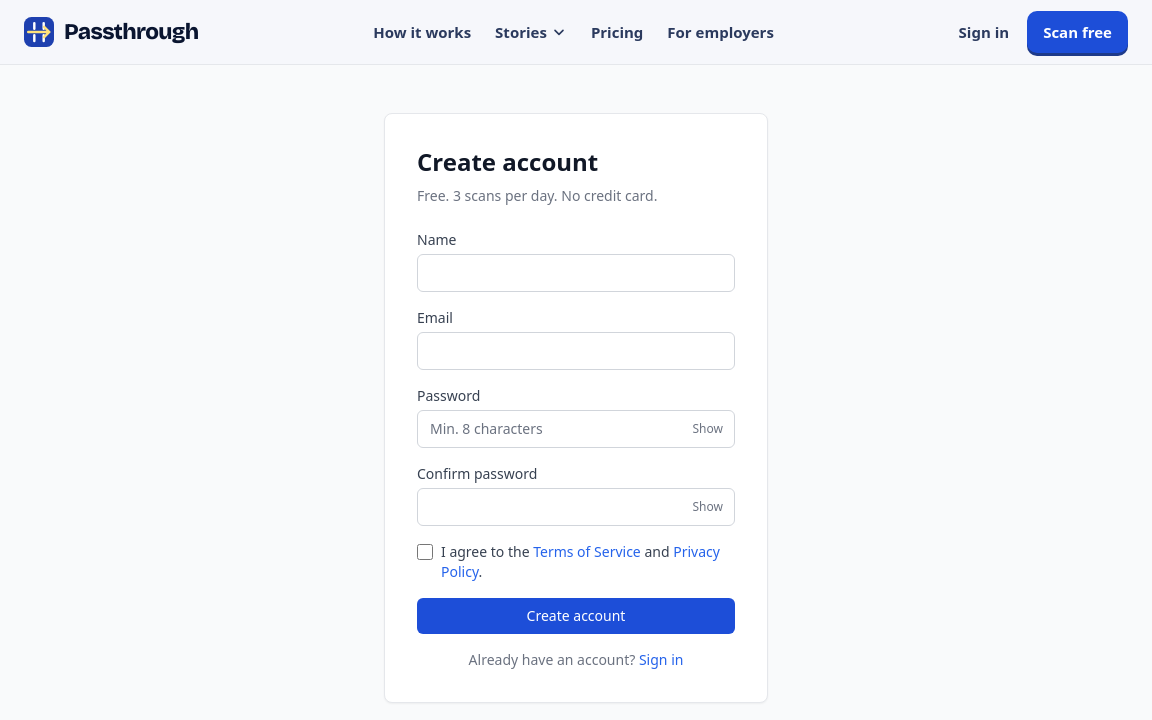
Test: Register — Turnstile (G1) and password toggles (G2) › will not submit before the challenge is solved
Type "Ada" into the field labelled "Name" at (576, 273), box x1=417 y1=254 x2=735 y2=292
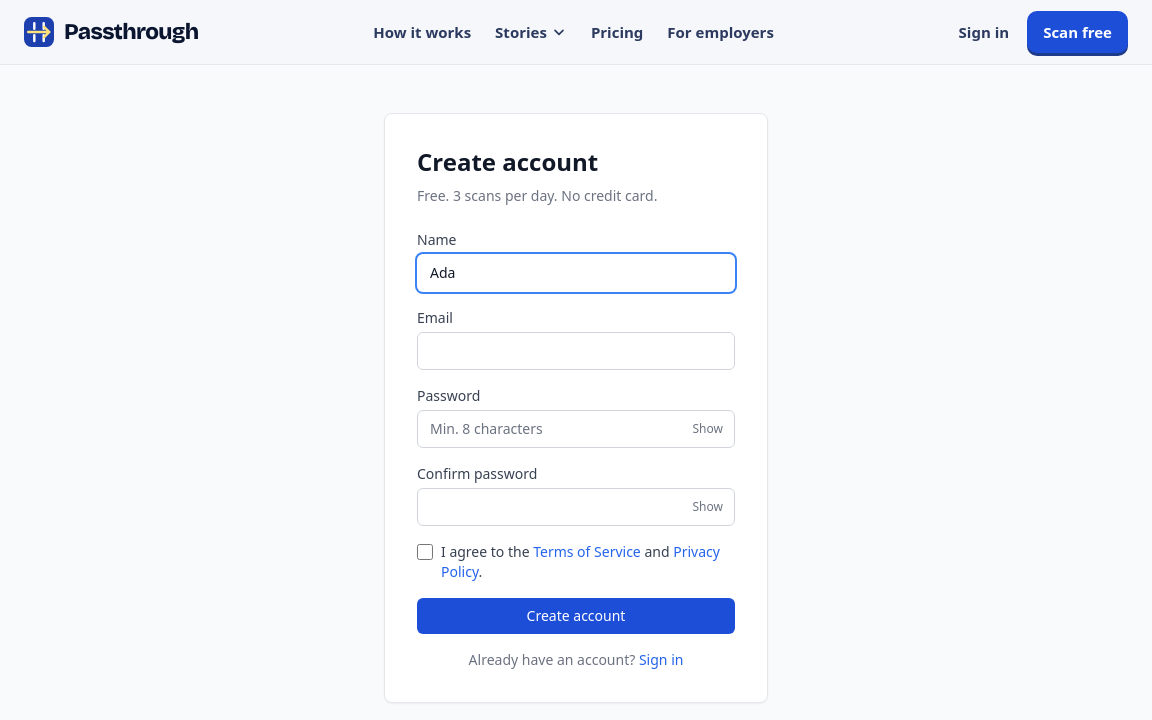
Type "ada@example.com" into the field labelled "Email" at (576, 351), box x1=417 y1=332 x2=735 y2=370
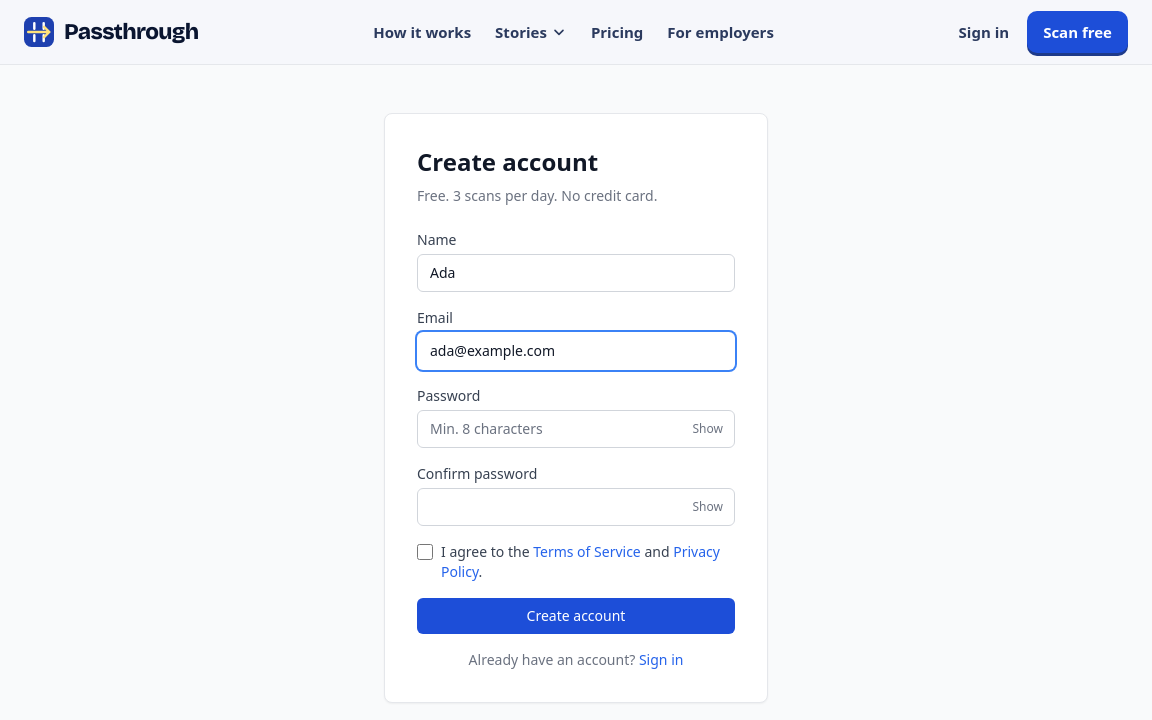
Type "correct-horse-battery-9" into the password field labelled "Password" at (576, 429), box x1=417 y1=410 x2=735 y2=448
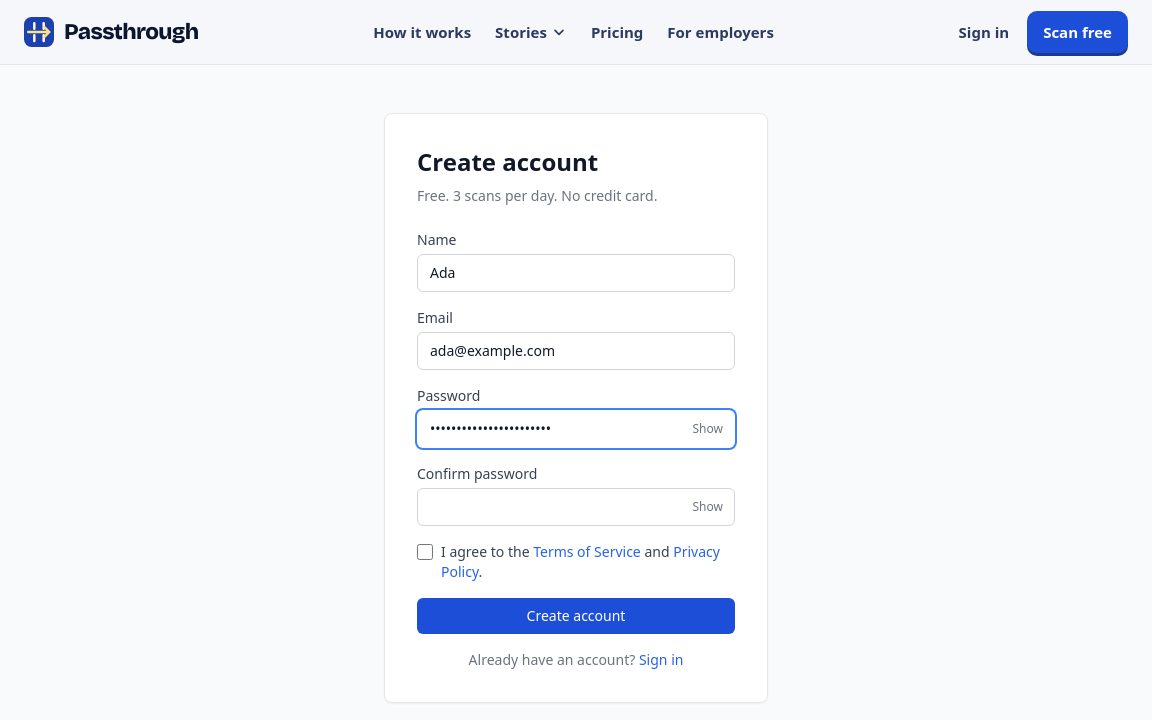
Type "correct-horse-battery-9" into the password field labelled "Confirm password" at (576, 507), box x1=417 y1=488 x2=735 y2=526
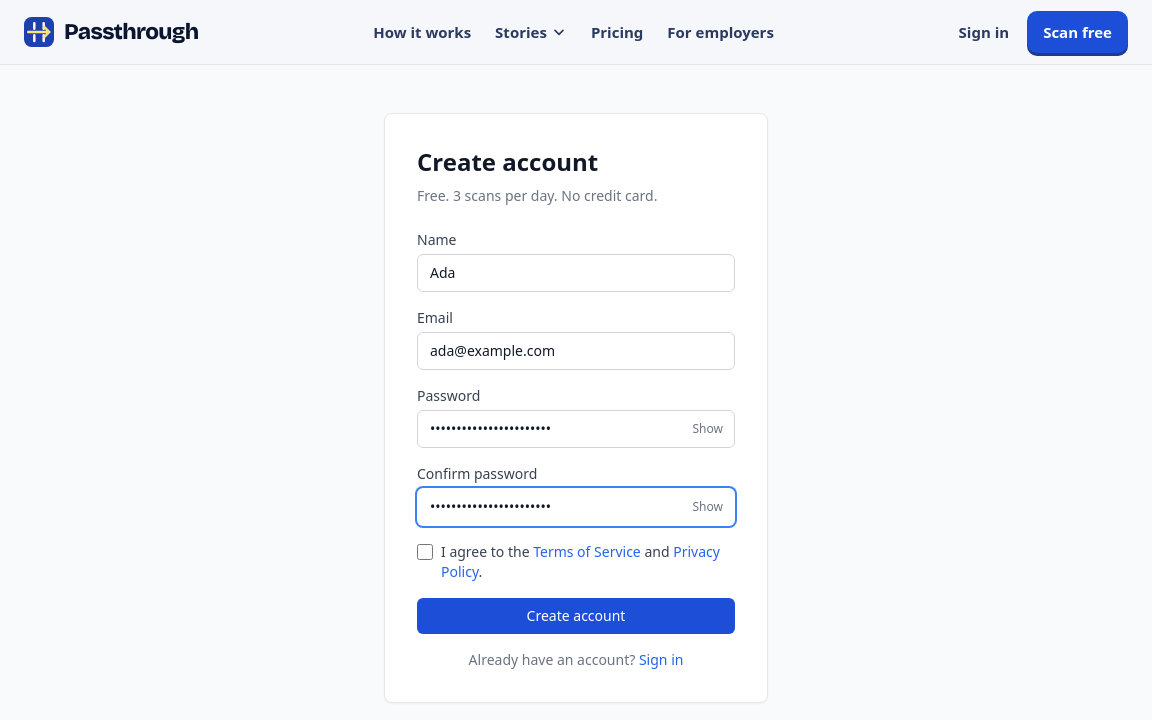
Click the checkbox at (425, 552), box x1=417 y1=544 x2=433 y2=560
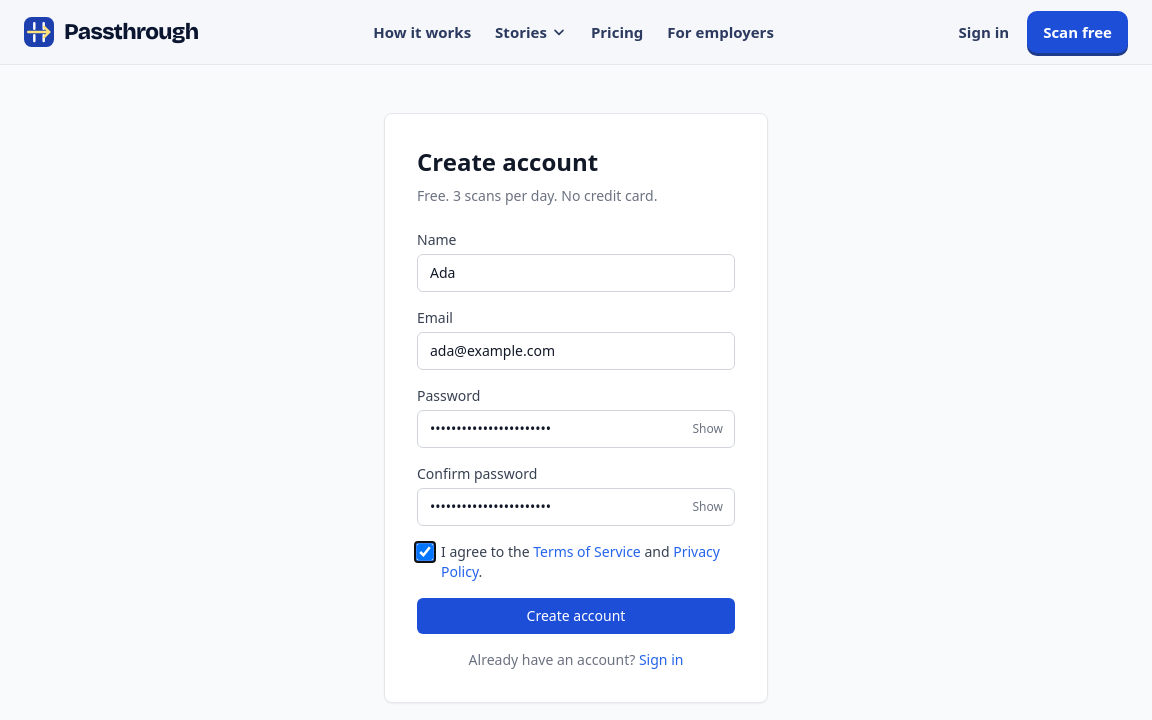
Click the button "Create account" at (576, 616), box x1=417 y1=598 x2=735 y2=634
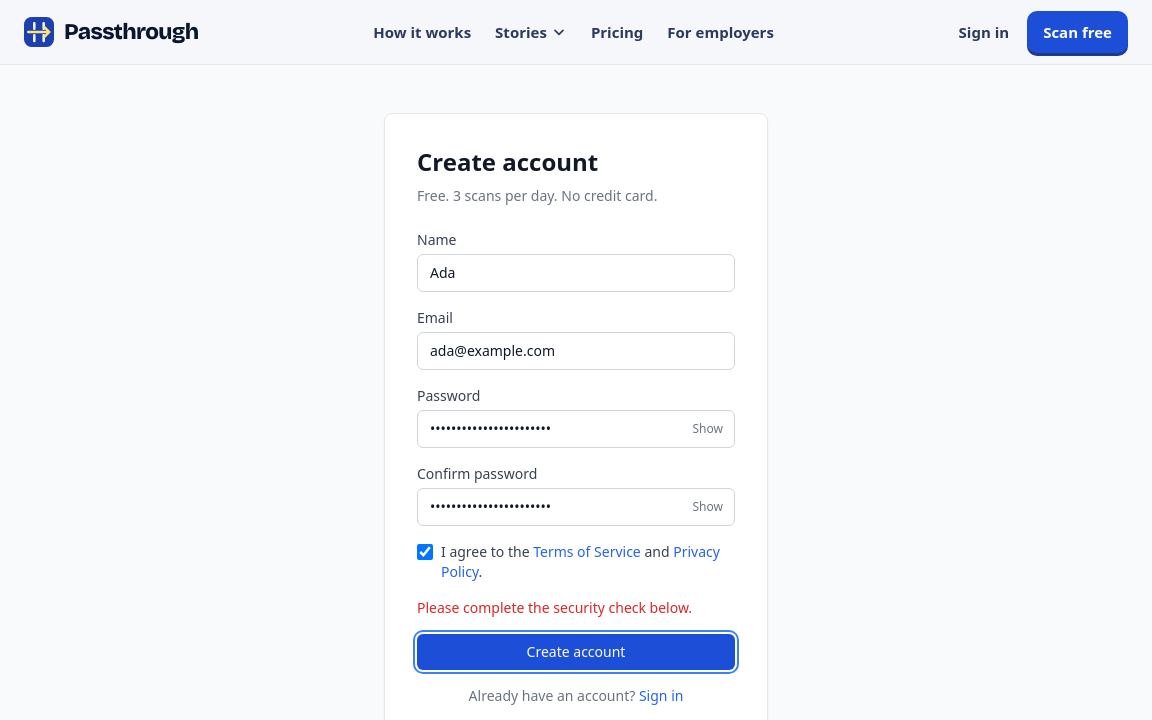
Check: the text "Please complete the security check below." is shown, box x1=417 y1=598 x2=735 y2=618
